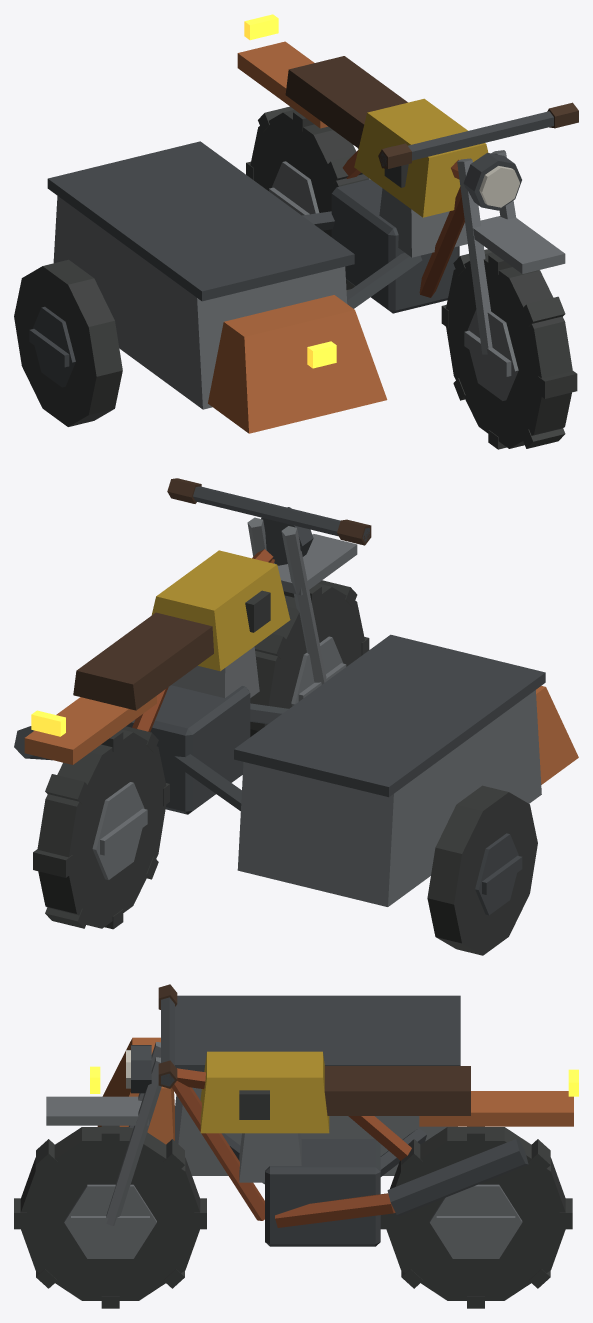
The model's file is vehicle_motorbike.glb.
The picture shows the model from 3 angles, top to bottom: view 1: azimuth 30°, elevation 25°; view 2: azimuth 150°, elevation 25°; view 3: azimuth 270°, elevation 25°; orthographic projection. The views are drawn at different scales.
Parts seen in each view (by area): view 1: body, wheel_f, wheel_s, wheel_r; view 2: body, wheel_r, wheel_s, wheel_f; view 3: body, wheel_f, wheel_r.
Part boxes in pixels (x1,y1,x2,y2): body: (47, 14, 578, 433); wheel_f: (441, 249, 577, 449); wheel_s: (14, 259, 122, 426); wheel_r: (246, 106, 369, 292); body: (14, 478, 578, 906); wheel_r: (33, 726, 169, 929); wheel_s: (427, 785, 537, 955); wheel_f: (250, 580, 369, 736); body: (46, 984, 578, 1246); wheel_f: (14, 1125, 206, 1308); wheel_r: (380, 1126, 572, 1308).
Size of the model in its own units: 1.79 by 1.17 by 2.19.
